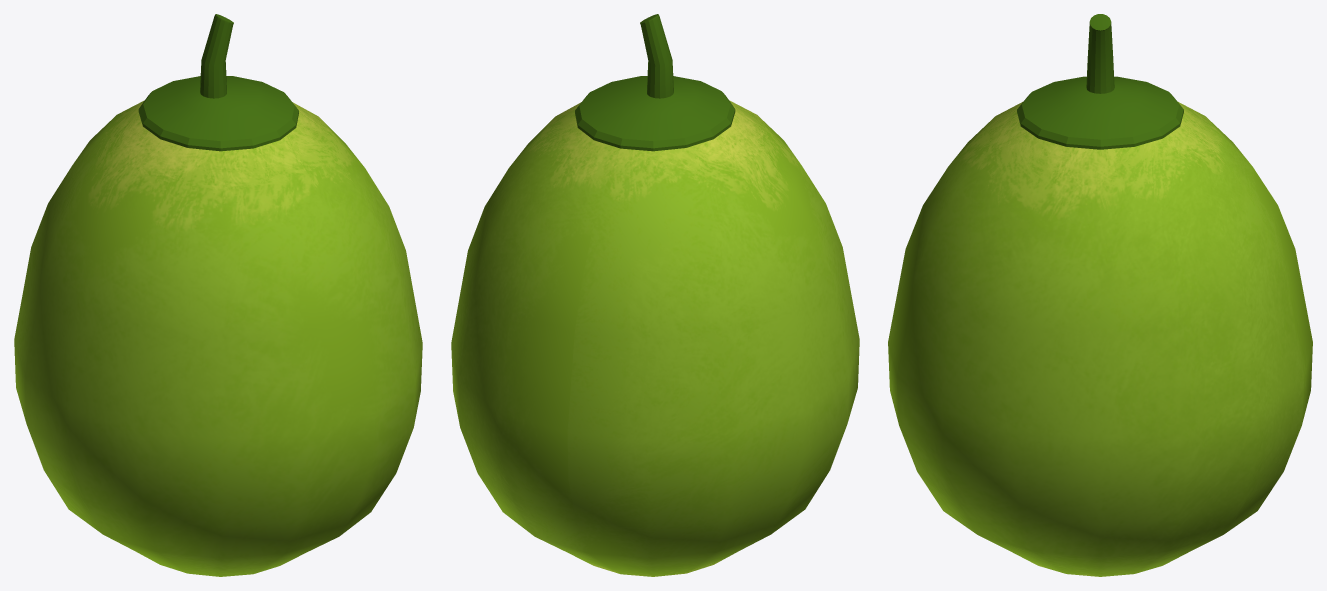
File: Coconut_Green.fbx
3 views of the same model, side by side, from view 1: azimuth 30°, elevation 25°; view 2: azimuth 150°, elevation 25°; view 3: azimuth 270°, elevation 25° (orthographic).
Parts seen in each view (by area): view 1: Green_Coconut; view 2: Green_Coconut; view 3: Green_Coconut.
Boxes of the visible parts, x1,y1,x2,y2 form: Green_Coconut: [14, 14, 422, 576]; Green_Coconut: [451, 14, 859, 576]; Green_Coconut: [888, 14, 1312, 576].
Size of the model in its own units: 2.25 by 3.25 by 2.37.
Materials: 1 (1 with a texture image).
